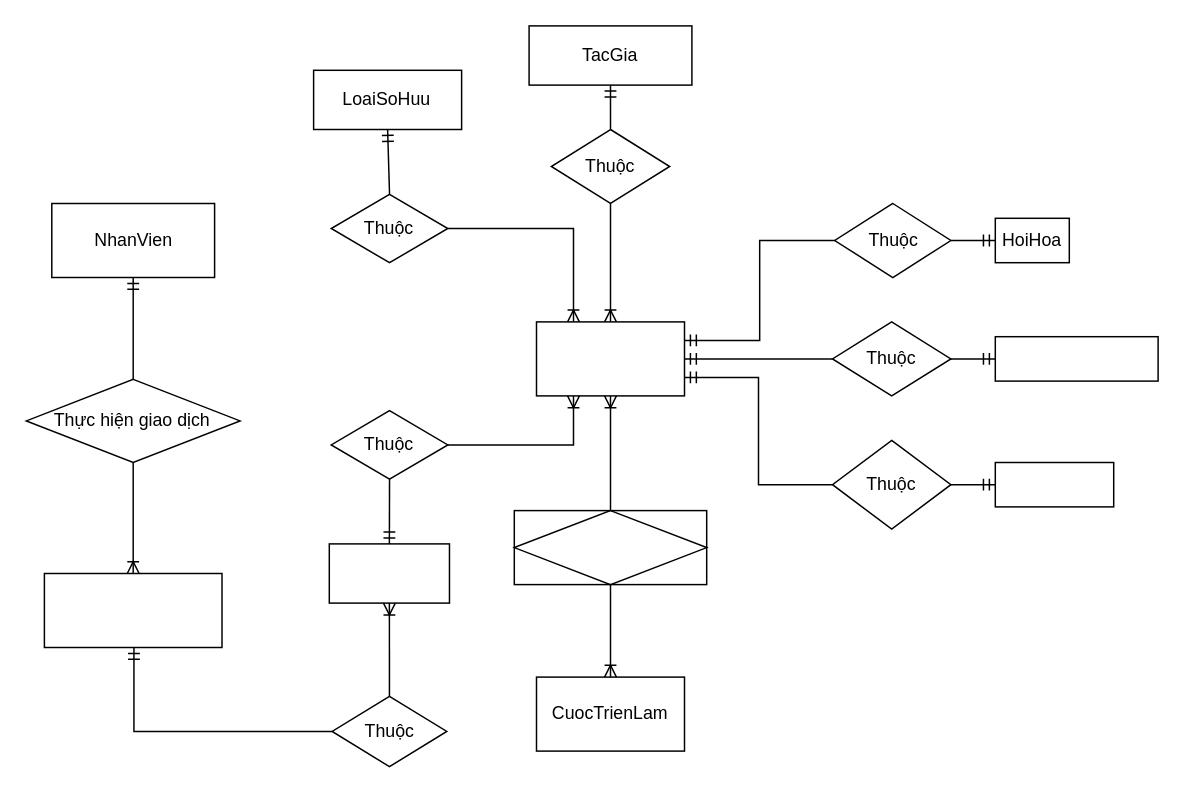
The diagram is 1184 pixels wide and 793 high, and some of its shapes have lost their labels. The shapes that lost their labels are listed below. From the top down, each one's centre as x and y in pixels, then its label:
the point at 609,358: TPNT
the point at 1076,358: DieuKhacTacTuong
the point at 1054,484: LoaiHinhKhac
the point at 610,547: CT_CuocTrienLam
the point at 388,572: LoaiDiMuon
the point at 132,610: BoSuuTap
